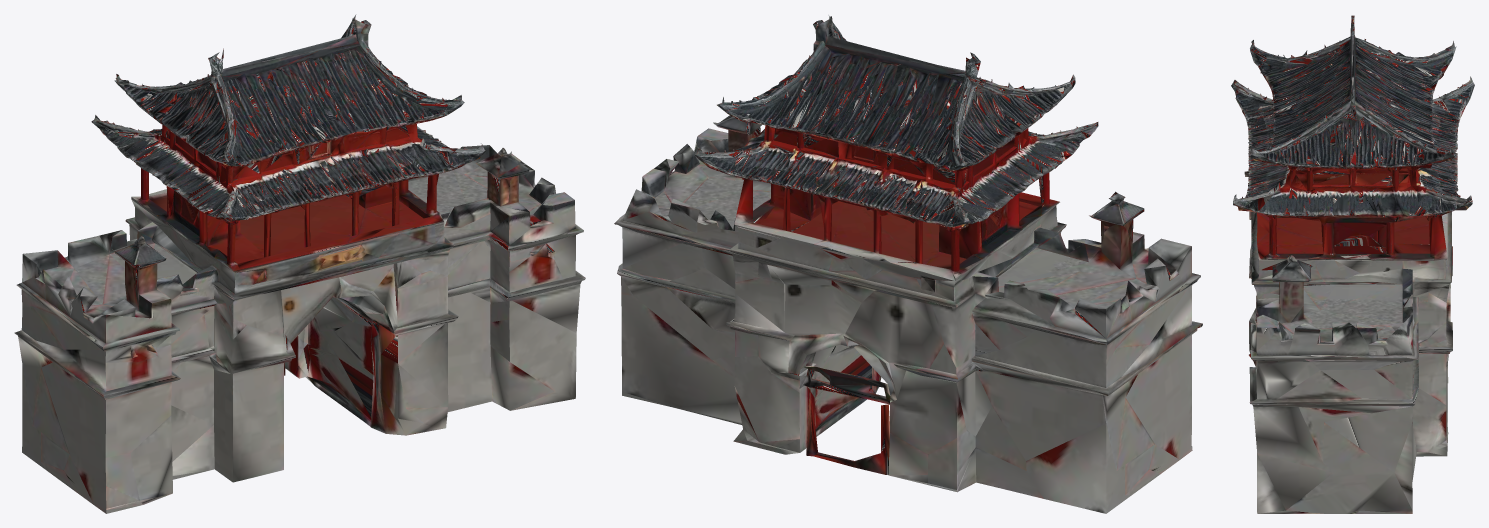
Rendered from city_gate.mid.glb.
3 renders of one model, left to right at view 1: azimuth 30°, elevation 25°; view 2: azimuth 150°, elevation 25°; view 3: azimuth 270°, elevation 25°, orthographic. The views are drawn at different scales.
Size of the model in its own units: 1.89 by 1.46 by 0.8875.
1 material, 1 textured.
